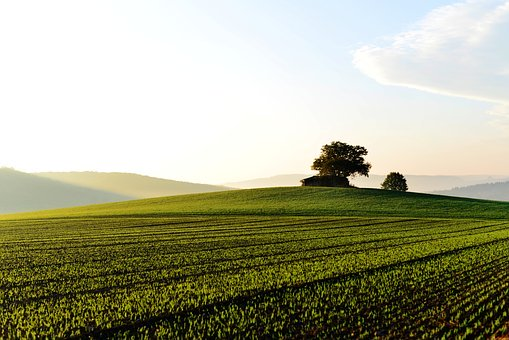field: (19, 203, 509, 340)
sky: (9, 9, 509, 177)
tree: (296, 142, 412, 201)
